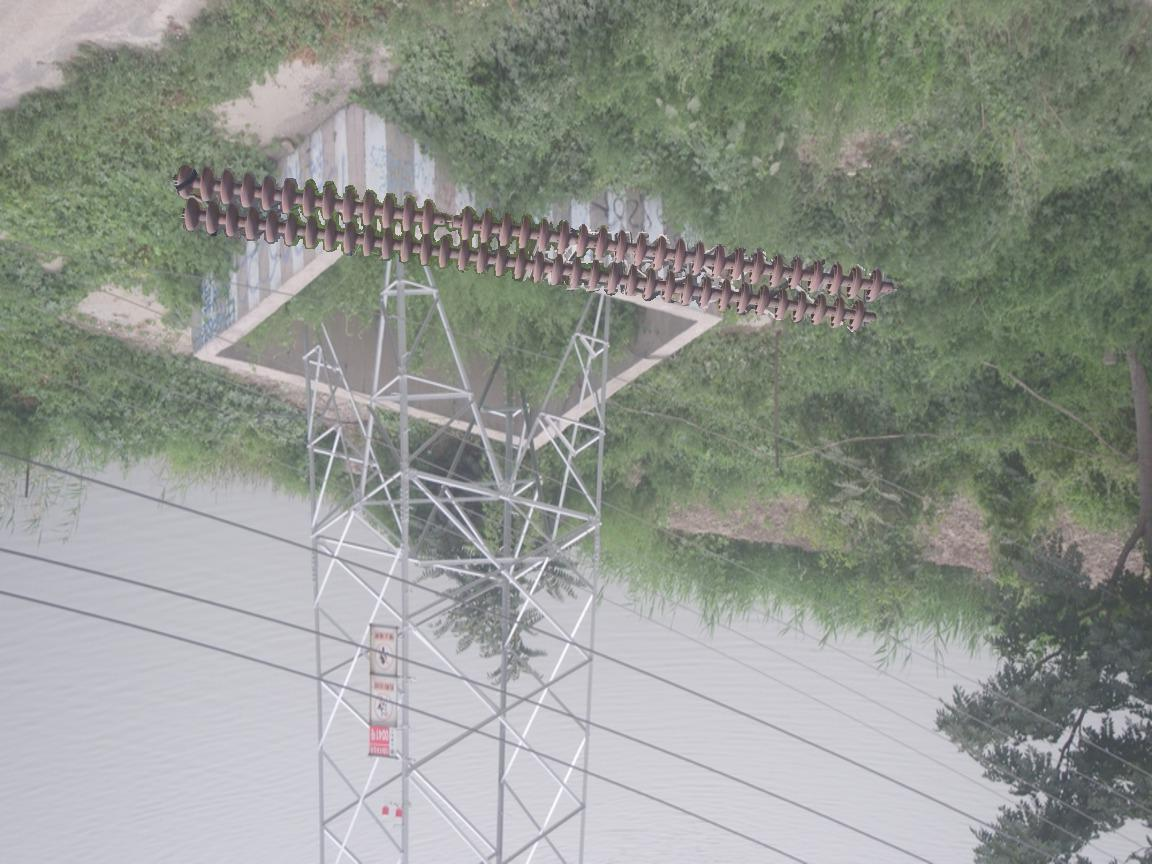insulator: (167, 159, 897, 343)
insulator_stringdrop: (416, 197, 475, 244)
